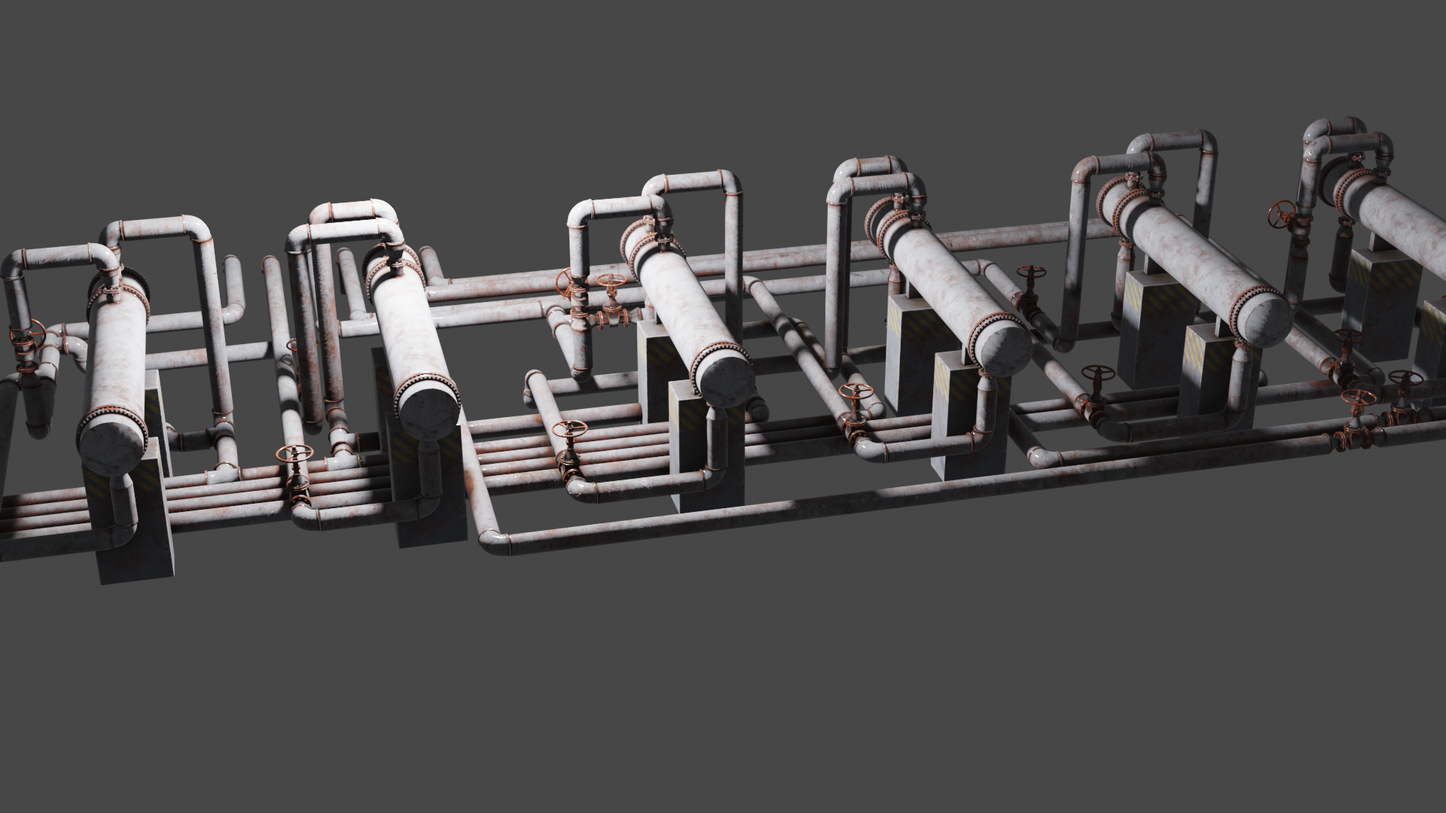HE_1: (1319, 148, 1446, 283)
HE_2: (1091, 174, 1292, 341)
HE_3: (861, 194, 1036, 373)
HE_4: (619, 216, 757, 414)
HE_5: (362, 247, 459, 442)
HE_6: (73, 263, 150, 481)
